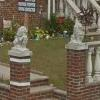Statue: (9, 19, 36, 78)
